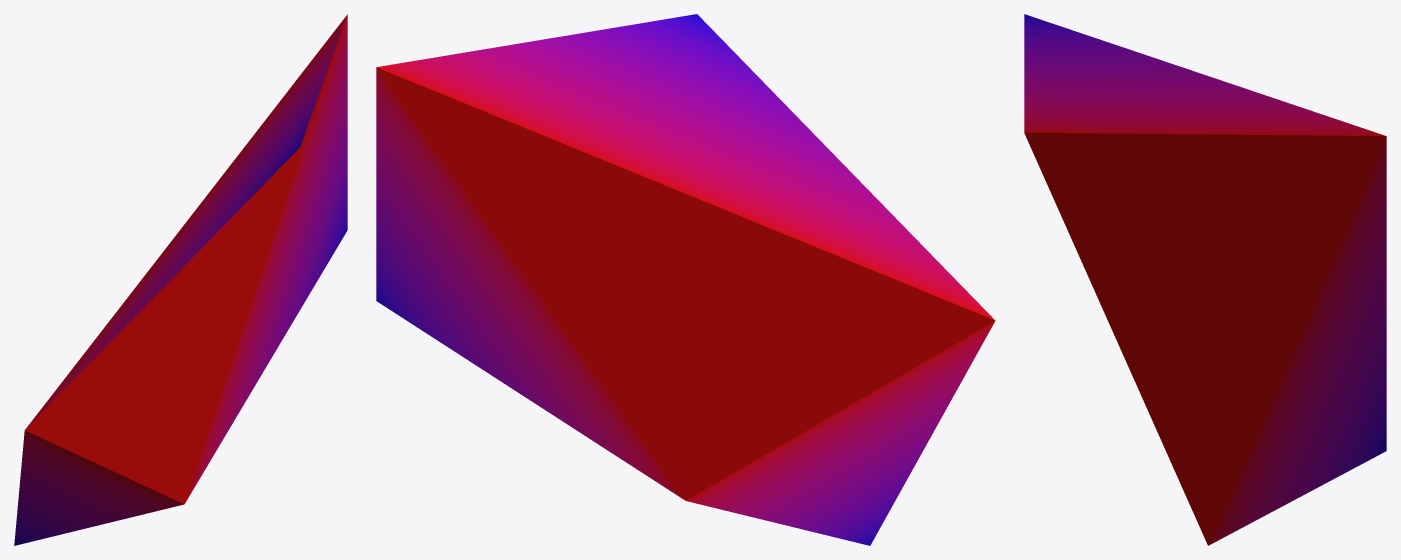
File: border_patch_15.obj
3 renders of one model, left to right at view 1: azimuth 30°, elevation 25°; view 2: azimuth 150°, elevation 25°; view 3: azimuth 270°, elevation 25°, orthographic. The views are drawn at different scales.
Bounding box in the file's own units: 1.34 × 1.12 × 0.6452.
